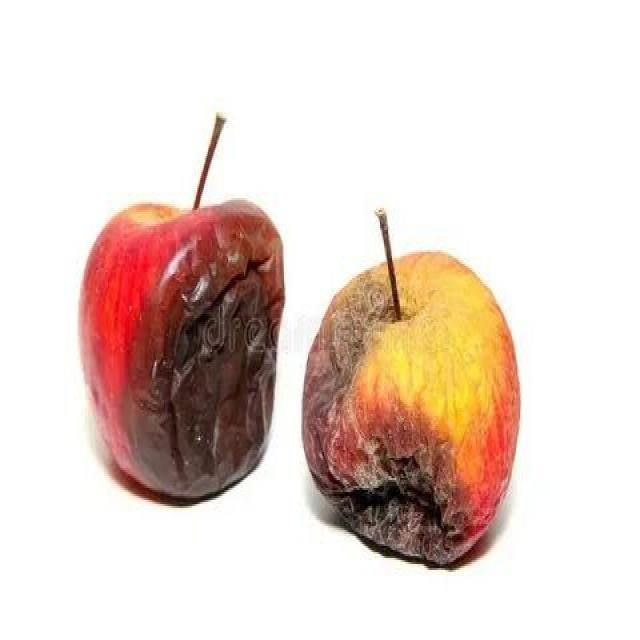Rotten: (296, 242, 526, 565), (73, 190, 282, 498)
